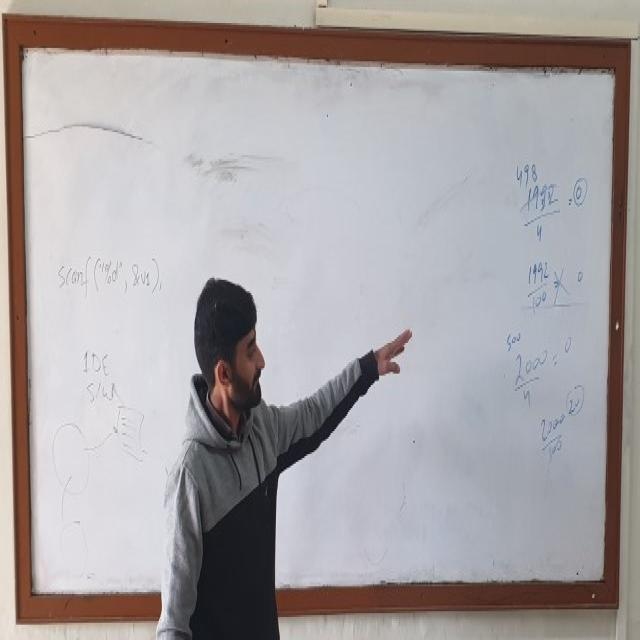Instructor: (168, 259, 294, 639)
White-board: (14, 26, 625, 610)
